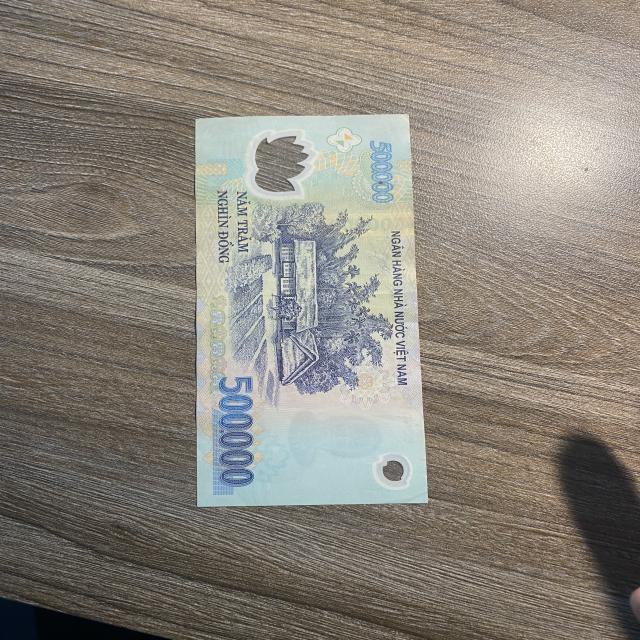500 000 VND: (192, 113, 430, 510)
